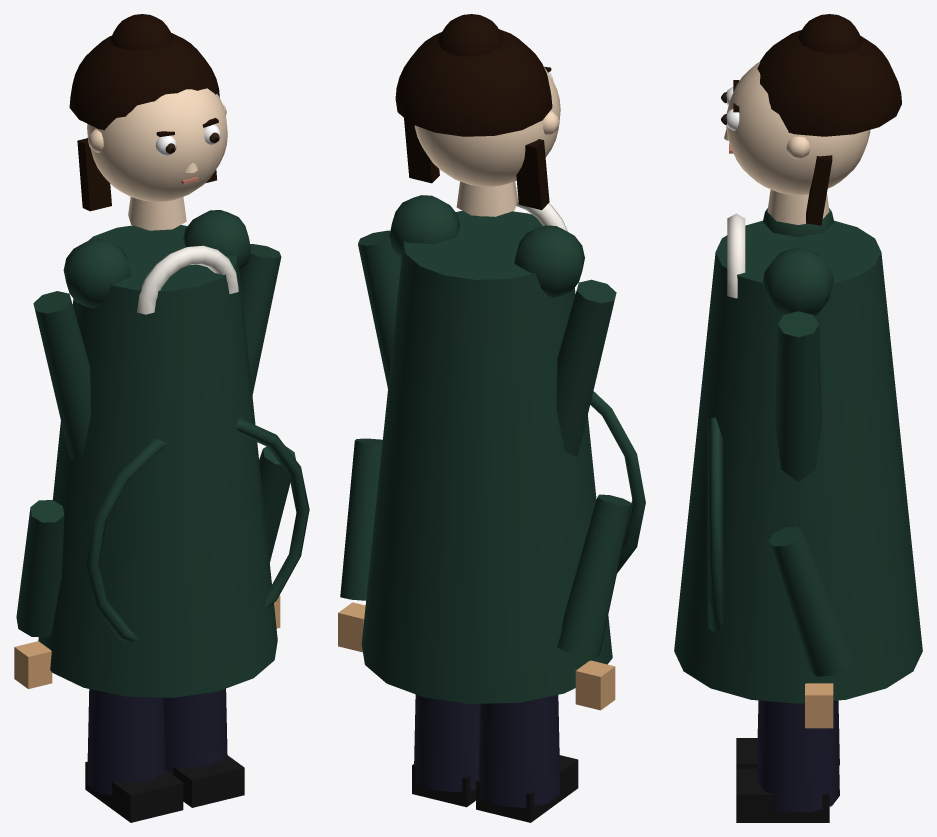
Rendered from secretaria.glb.
The picture shows the model from 3 angles, left to right: view 1: azimuth 30°, elevation 25°; view 2: azimuth 150°, elevation 25°; view 3: azimuth 270°, elevation 25°; orthographic projection. The views are drawn at different scales.
Visible parts, largest first — view 1: SECRETARIA; view 2: SECRETARIA; view 3: SECRETARIA.
Part boxes in pixels (<box>): SECRETARIA: <box>14,14,309,822</box>; SECRETARIA: <box>338,14,645,822</box>; SECRETARIA: <box>674,14,922,822</box>.
Bounding box in the file's own units: 0.5996 × 1.65 × 0.48.
